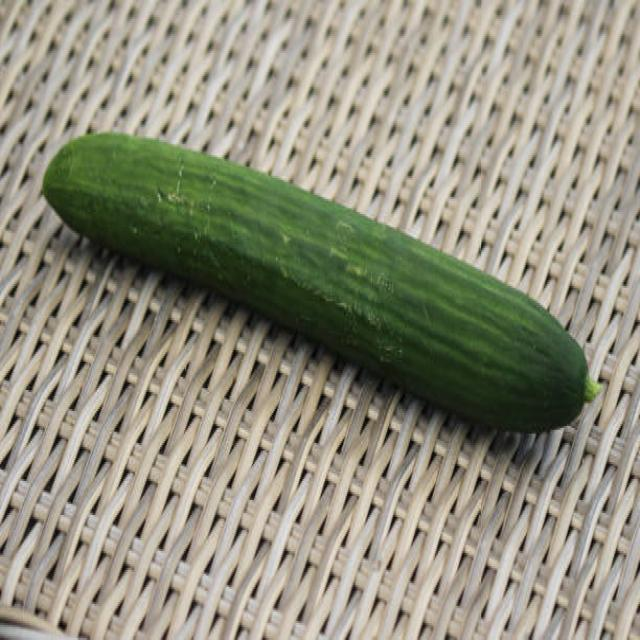cucumber: (44, 129, 586, 436)
